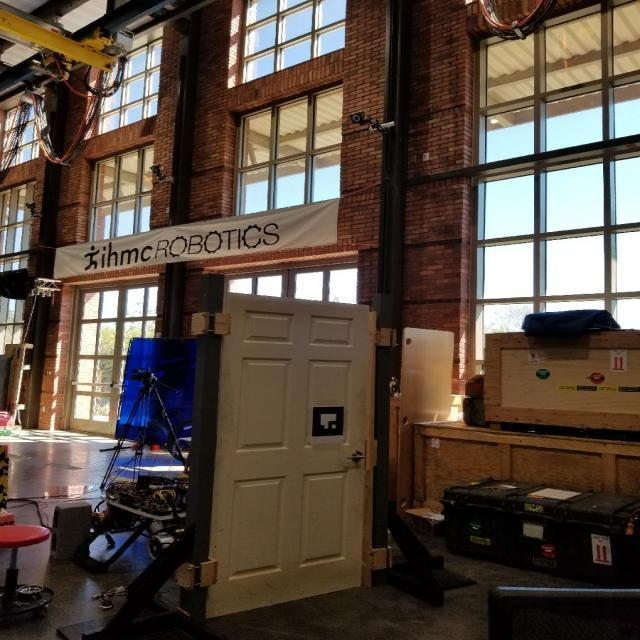door: (204, 290, 376, 621), (344, 448, 366, 465)
